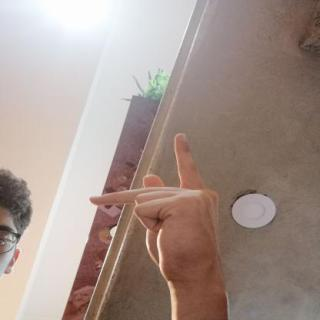DHAA: (79, 128, 233, 290)
